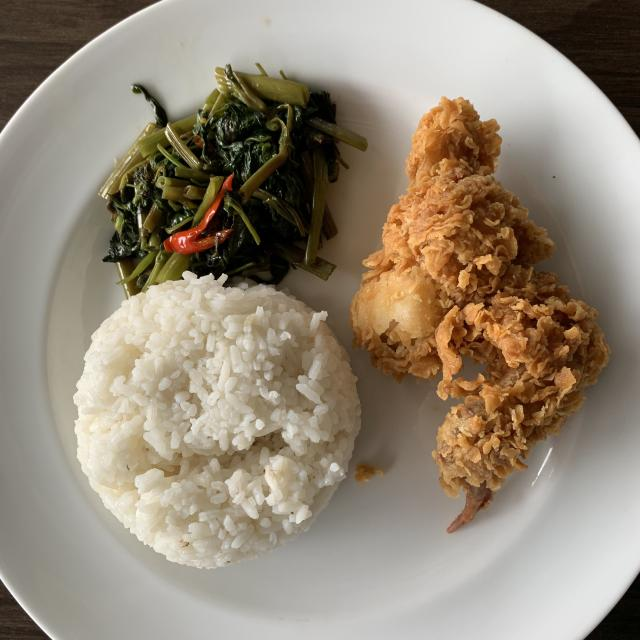Wet Waste: (354, 96, 614, 534), (72, 272, 362, 562), (98, 58, 367, 301)
